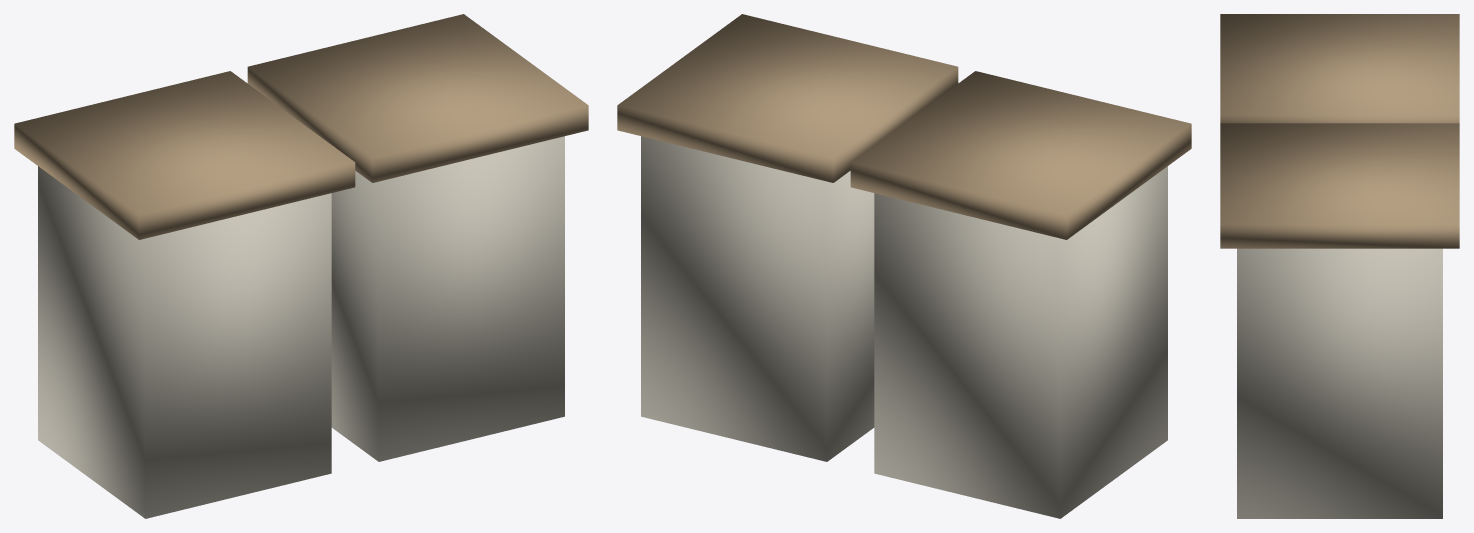
File: museum_display_plinth__cluster.glb
3 views of the same model, side by side, from view 1: azimuth 30°, elevation 25°; view 2: azimuth 150°, elevation 25°; view 3: azimuth 270°, elevation 25° (orthographic). The views are drawn at different scales.
Visible parts, largest first — view 1: world; view 2: world; view 3: world.
Part boxes in pixels (left/top/right/bottom): world: left=14, top=14, right=588, bottom=518; world: left=617, top=14, right=1191, bottom=518; world: left=1220, top=14, right=1459, bottom=518.
Bounding box in the file's own units: 1.5 × 1 × 0.72.
